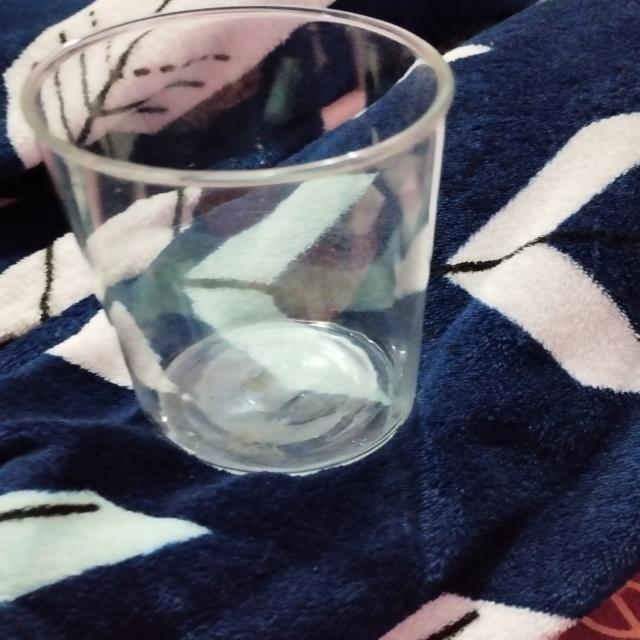Glass: (15, 0, 459, 479)
